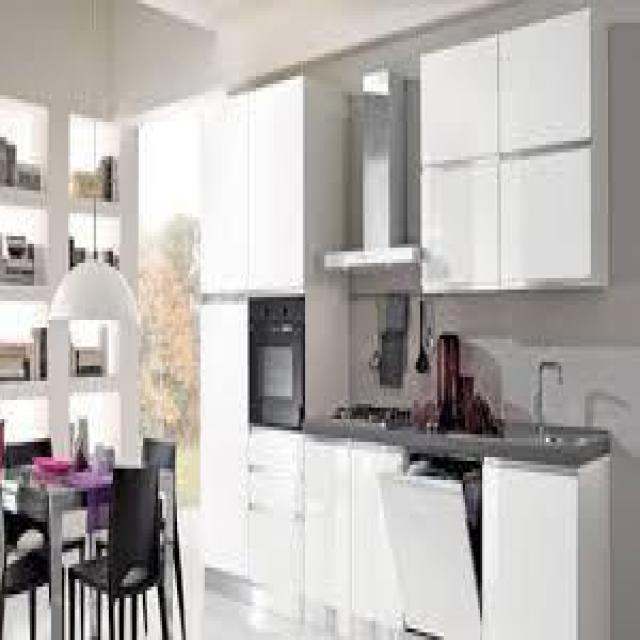dishwasher: (376, 438, 486, 640)
